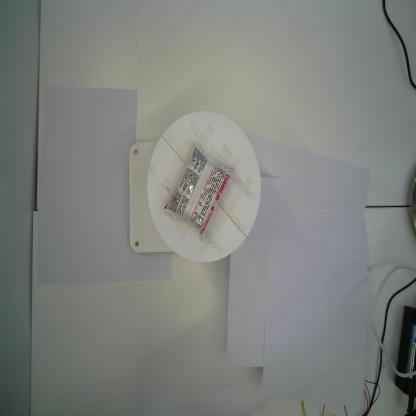Dessert: (163, 138, 235, 242)
